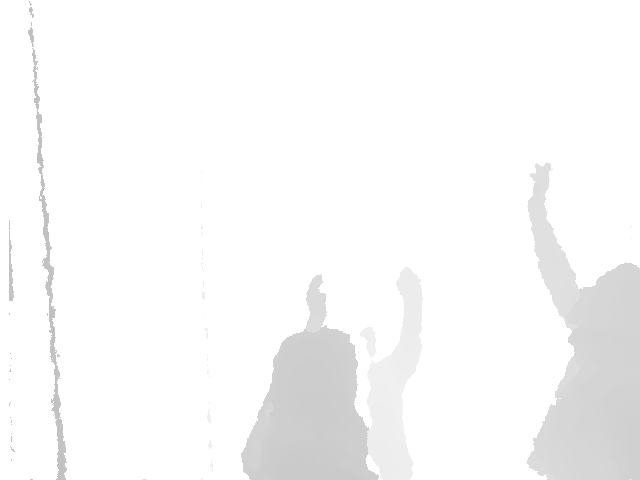hand: (527, 162, 551, 208), (396, 267, 423, 302), (306, 274, 326, 319)
head: (269, 327, 357, 413), (570, 263, 640, 347)
person: (524, 162, 640, 479), (241, 274, 383, 480), (358, 267, 424, 480)
